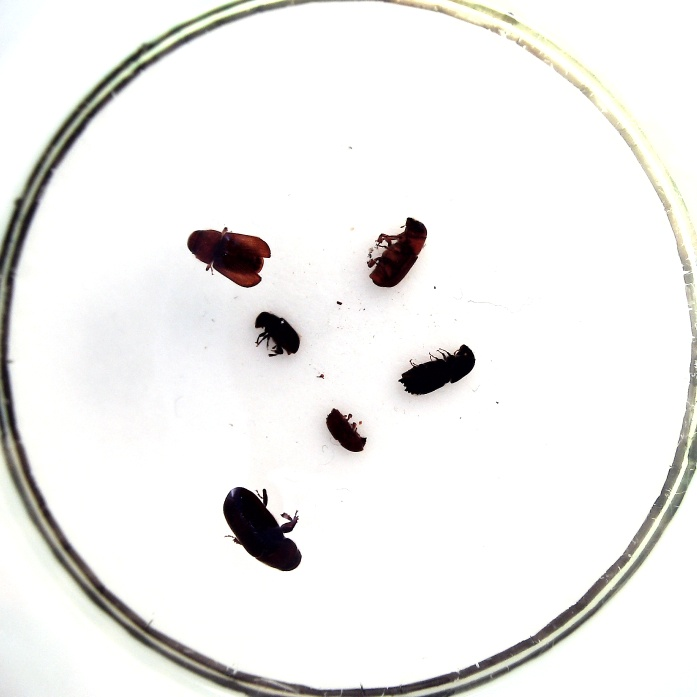armandi: (254, 311, 300, 357)
boerner: (399, 343, 476, 394)
leconte: (222, 486, 302, 571), (369, 217, 427, 287), (187, 230, 264, 277)
linnaeus: (326, 409, 366, 452)
